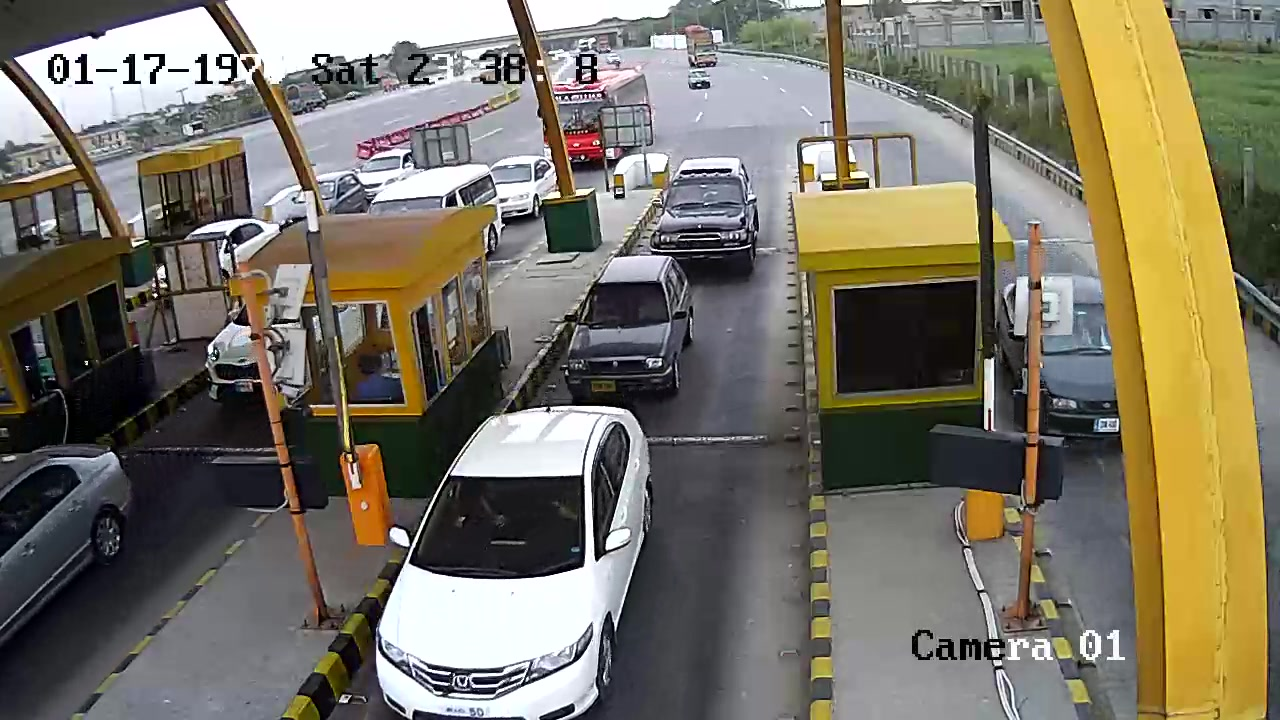F1: (367, 404, 677, 716), (554, 251, 699, 407)
